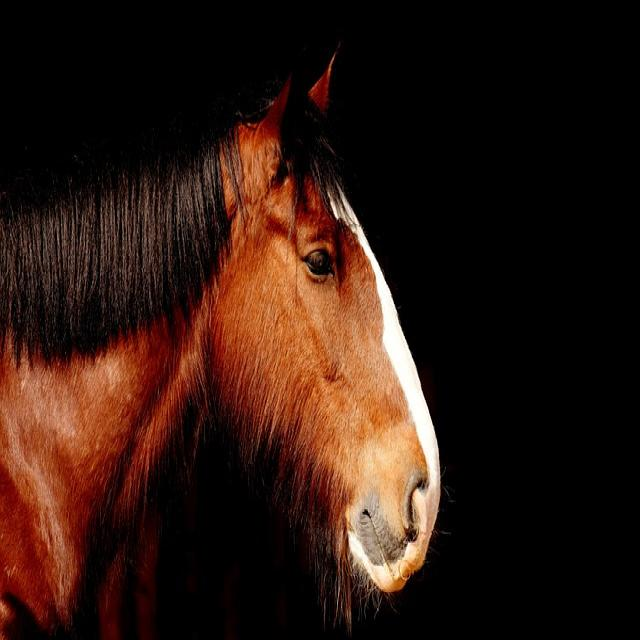Herbivorous: (0, 36, 443, 640)
